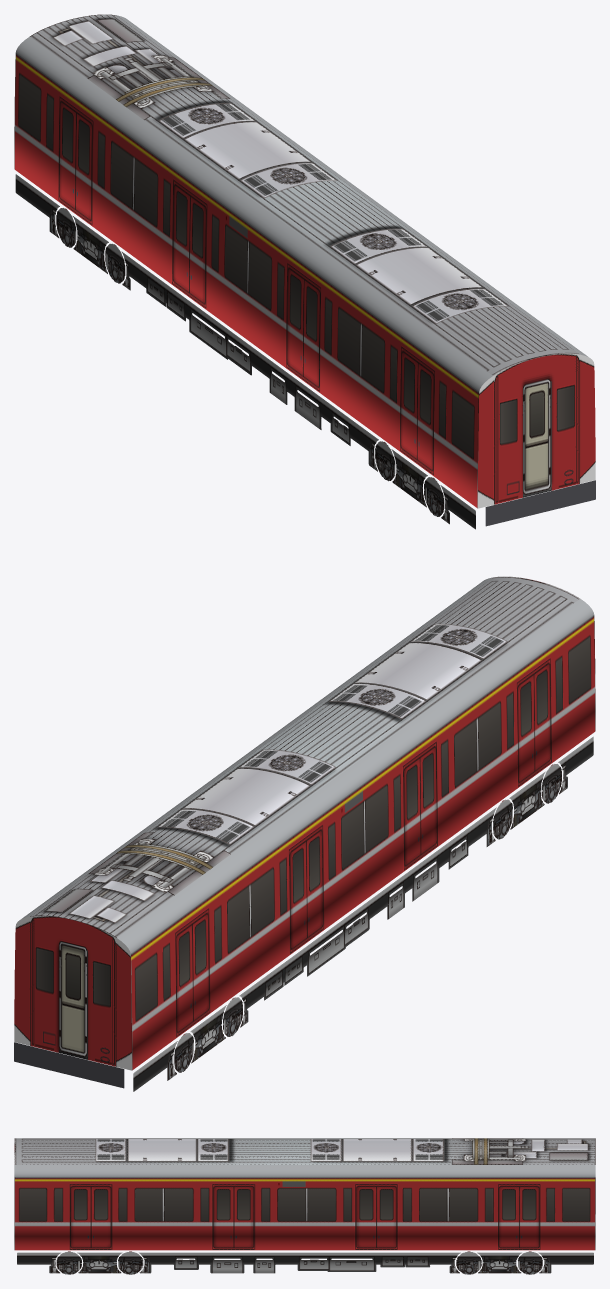
Rendered from car2.glb.
The picture shows the model from 3 angles, top to bottom: view 1: azimuth 30°, elevation 25°; view 2: azimuth 150°, elevation 25°; view 3: azimuth 270°, elevation 25°; orthographic projection. The views are drawn at different scales.
Parts seen in each view (by area): view 1: osakyu1000-car2; view 2: osakyu1000-car2; view 3: osakyu1000-car2.
Part boxes in pixels (x1=…): osakyu1000-car2: x1=14, y1=14, x2=595, y2=529; osakyu1000-car2: x1=14, y1=576, x2=595, y2=1091; osakyu1000-car2: x1=14, y1=1138, x2=595, y2=1274.
Size of the model in its own units: 2.86 by 4.06 by 19.53.
7 materials, 6 textured.
